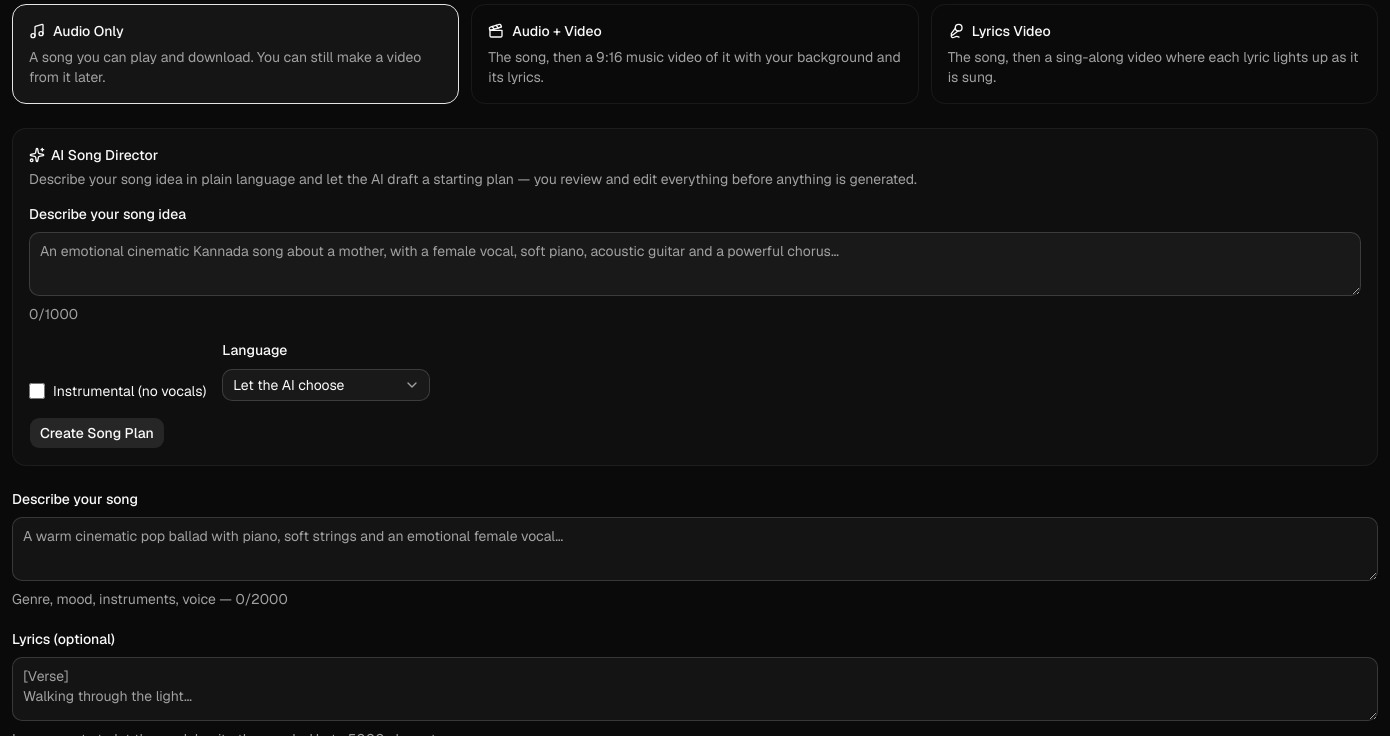
Test: Create page intents › blocks a video without a background or lyrics before any generation starts
The width and height of the screenshot is (1390, 736).
Click the radio button labelled "Audio + Video" at (695, 54), box [471,4,919,104]
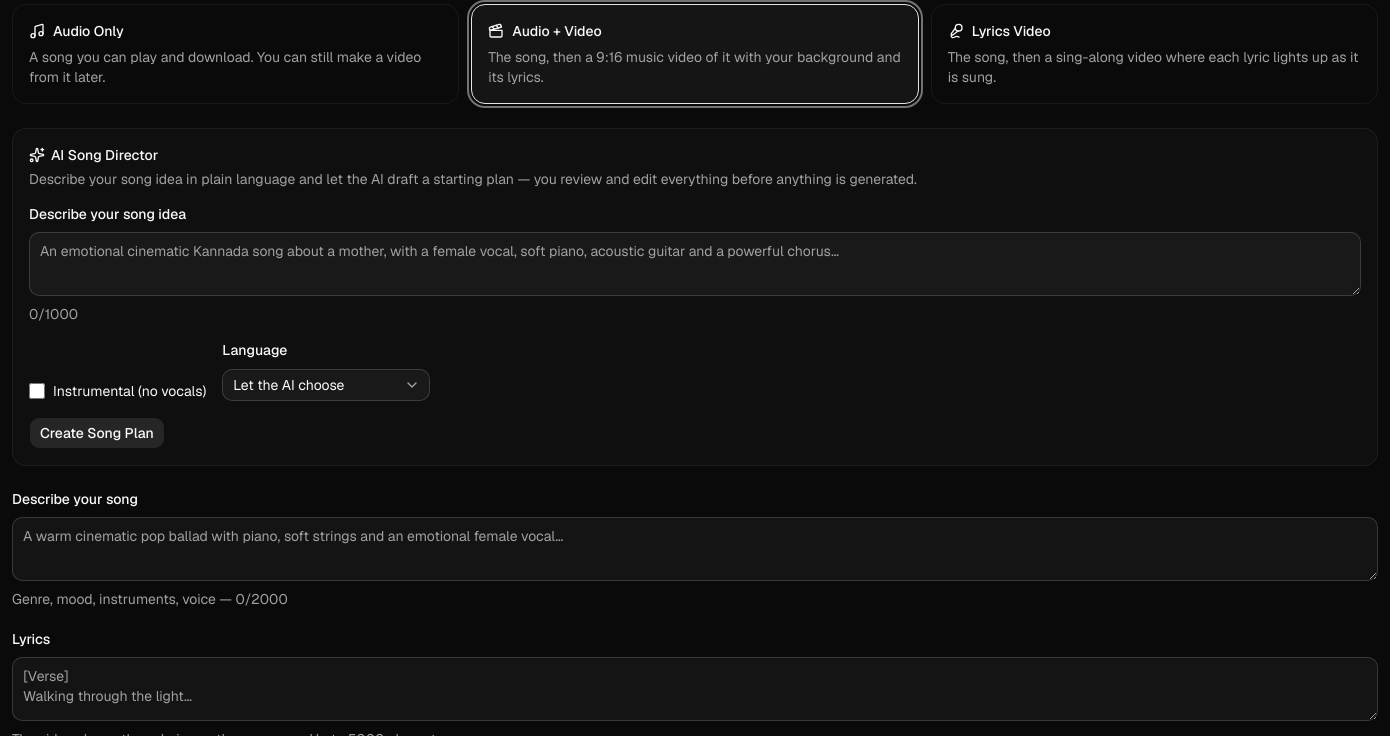
Type "an anthem" into the text box labelled "Describe your song" at (695, 549), box [12,517,1378,581]
(page scrolled)
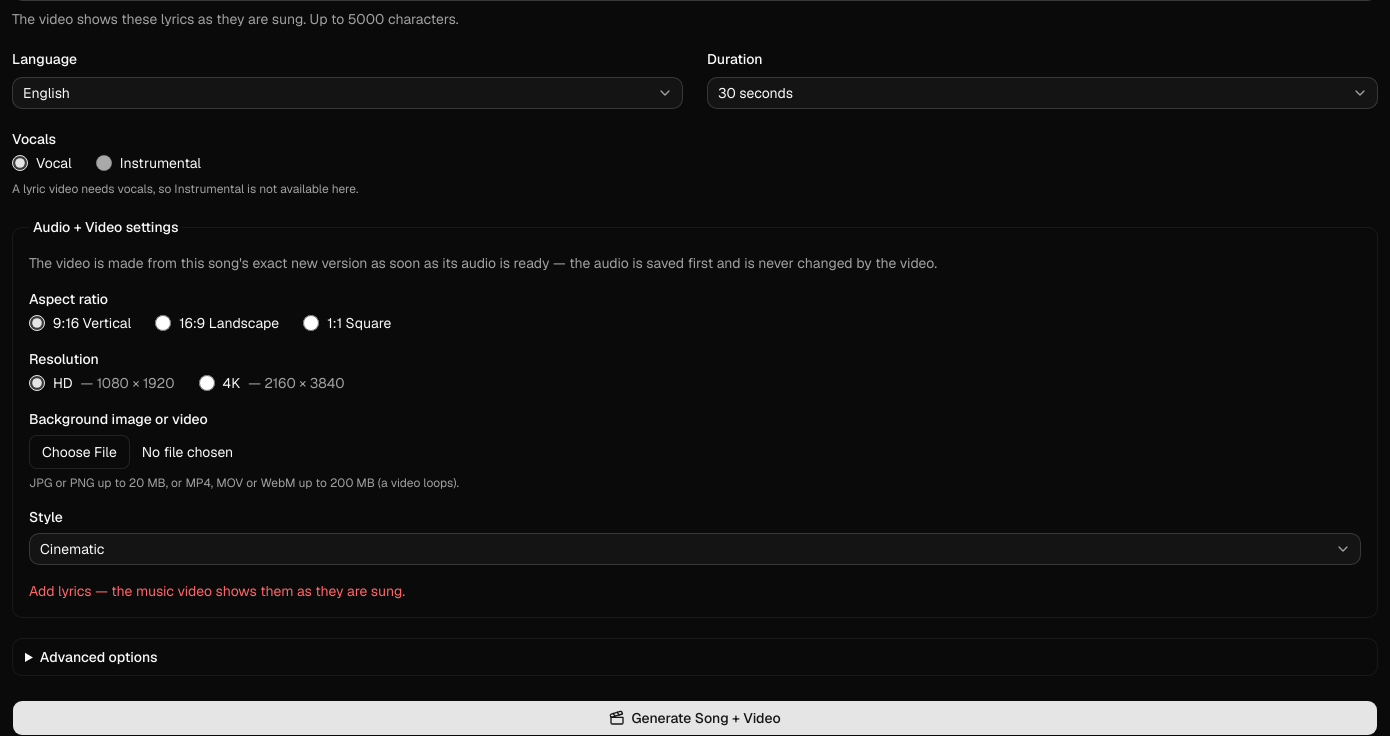
Now the message with test id "creation-video-error" shows "Add lyrics", box [29,582,405,600]
Click the button "Generate Song + Video" at (695, 718), box [12,700,1378,735]
(page scrolled)
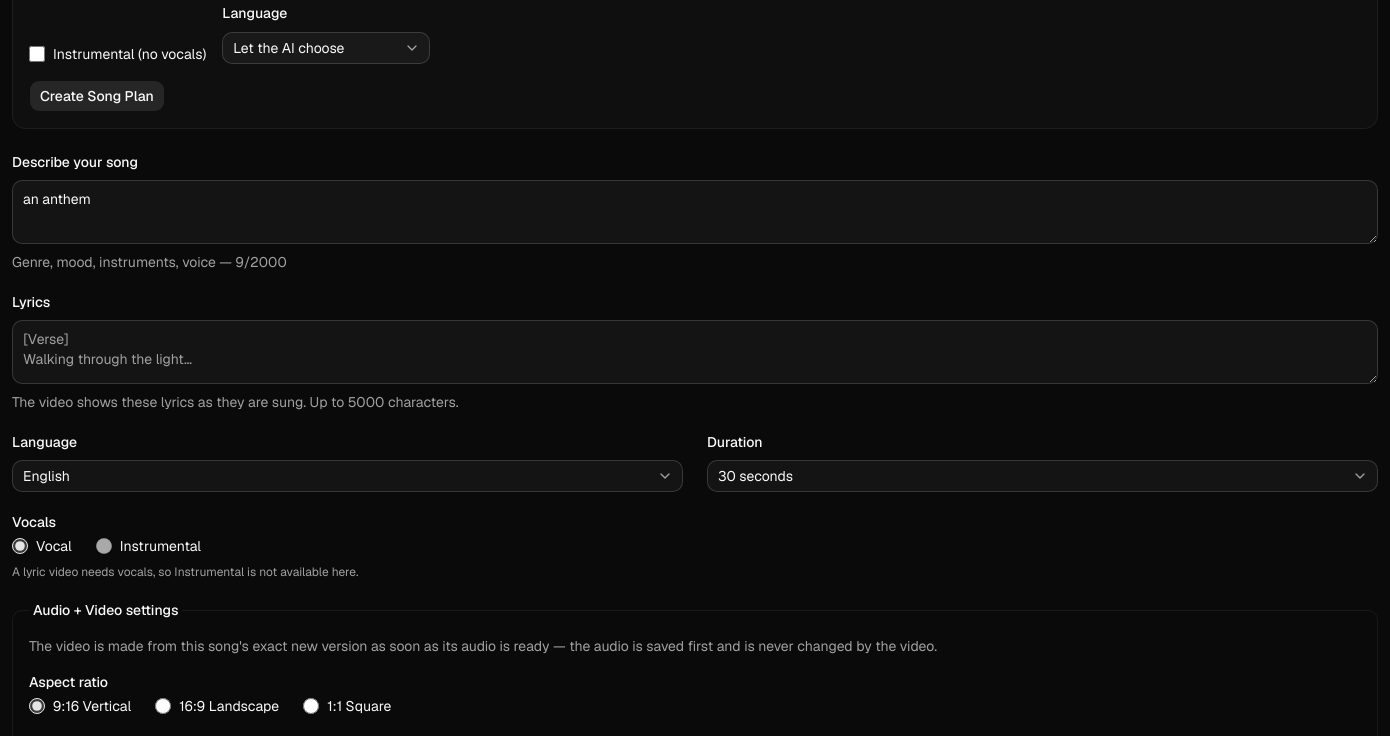
Click the text box labelled "Lyrics" at (695, 352), box [12,320,1378,384]
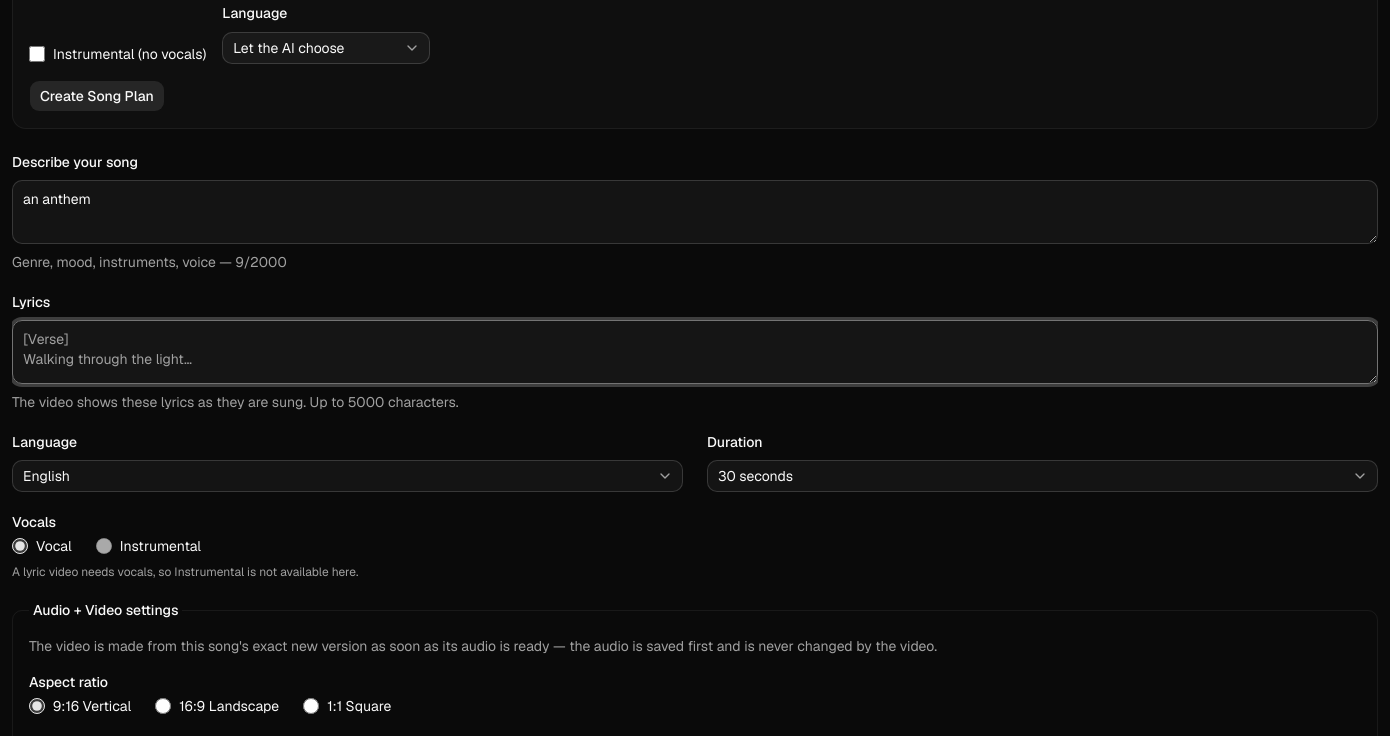
Type keys "la la"
(page scrolled)
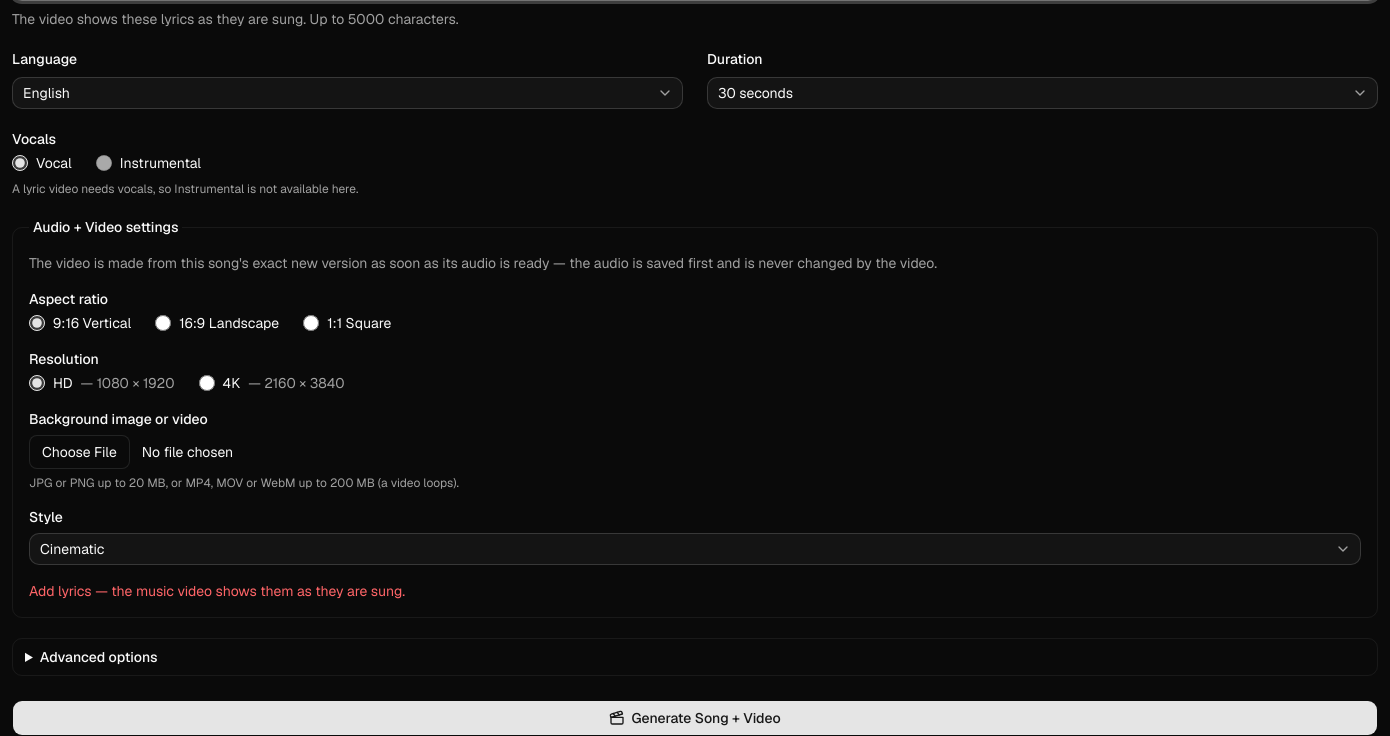
Click the button "Generate Song + Video" at (695, 718), box [12,700,1378,735]
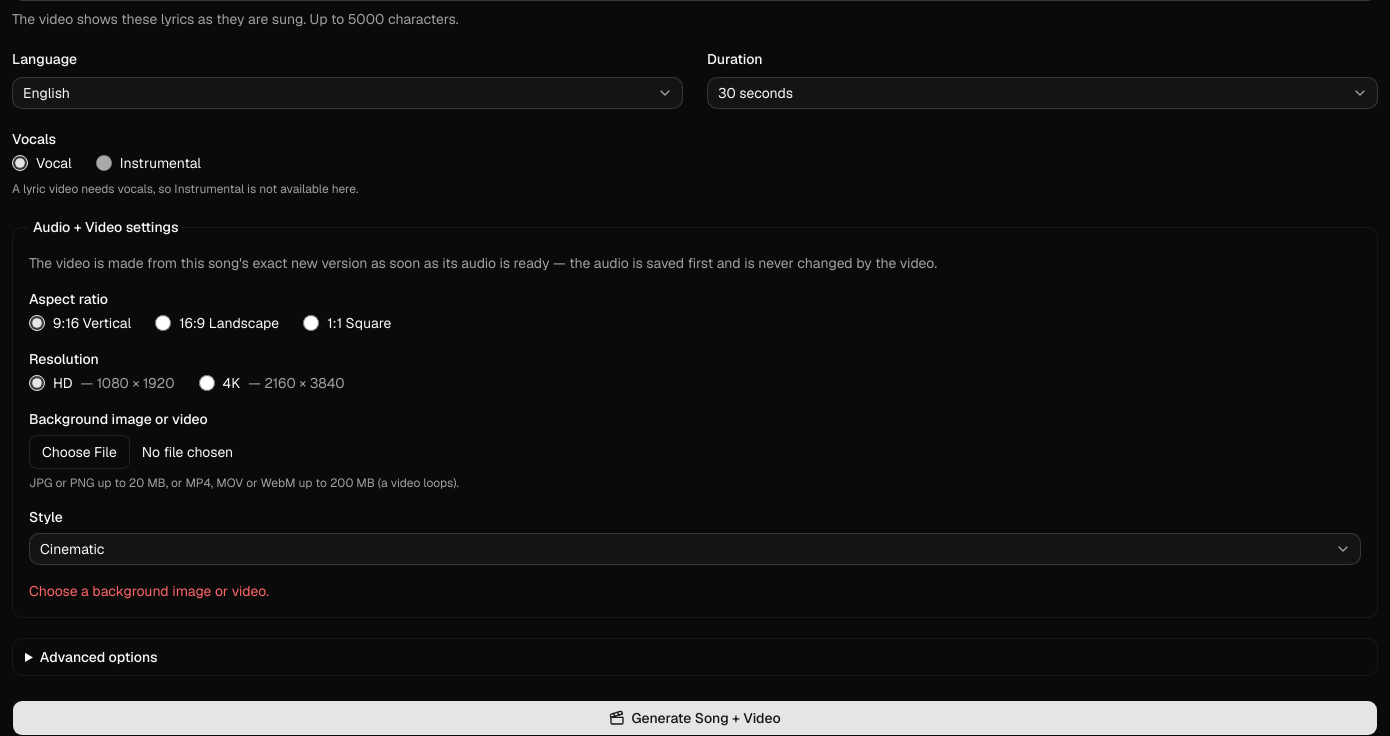
Now the message with test id "creation-video-error" shows "Choose a background", box [29,582,269,600]
